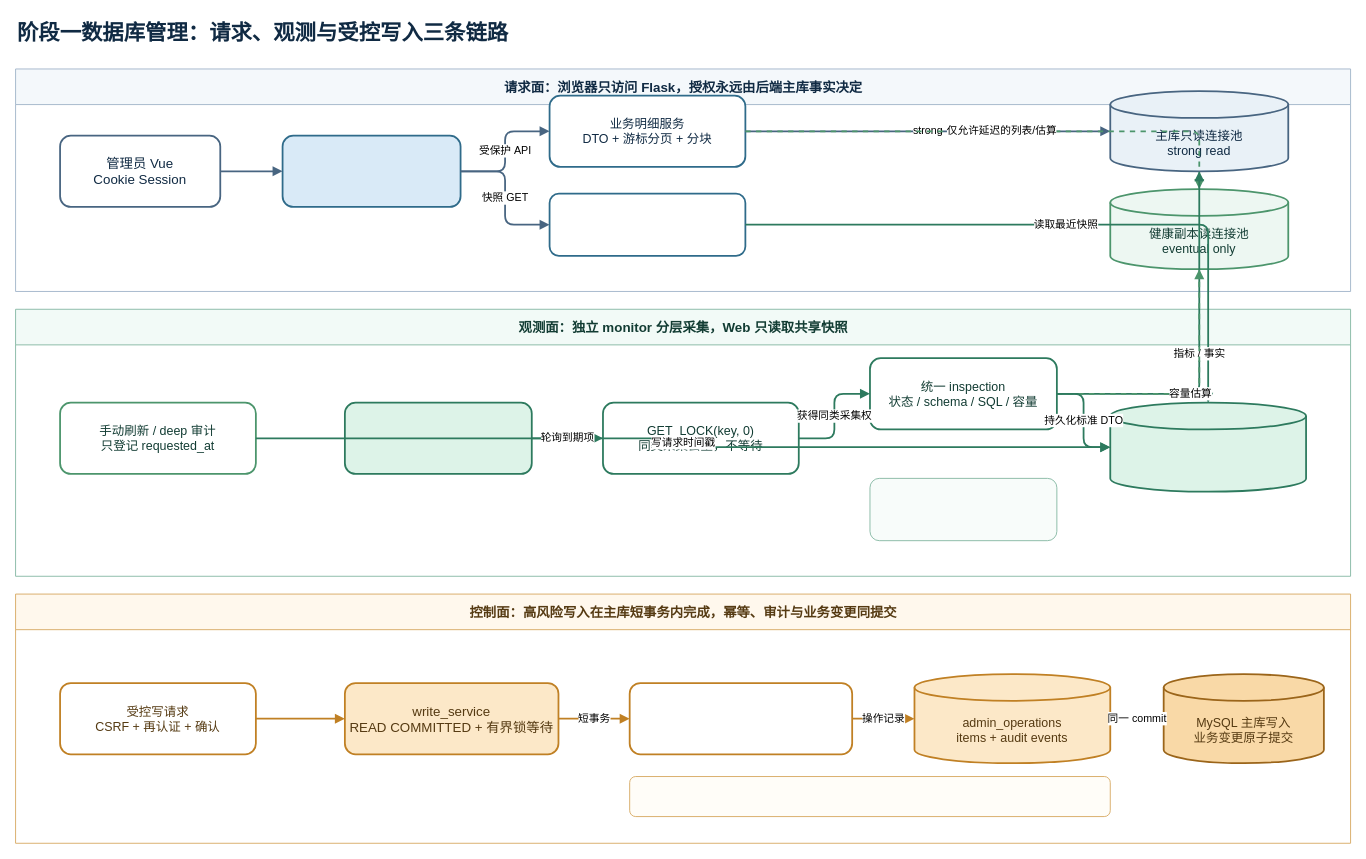
Image size: 1366x859. Some labels were removed from this diagram. Here are the shapes that lost their labels. From the top down, the centre of each, then its label:
the point at 371,170: Flask 管理 API admin_required
the point at 647,224: 看板快照服务 一次读取 5 类快照
the point at 438,437: 独立 monitor 进程 按快照类型并行
the point at 1208,446: database_monitor_snapshots payload + observed_at + requested_at
the point at 963,509: 分层周期 10s / 60s / 900s / 手动或低频
the point at 740,718: 稳定锁顺序 操作者 → 管理员集合 → 目标 → 子记录
the point at 869,796: 唯一约束兜底：Idempotency-Key / active_session_key / write_identity_hash
